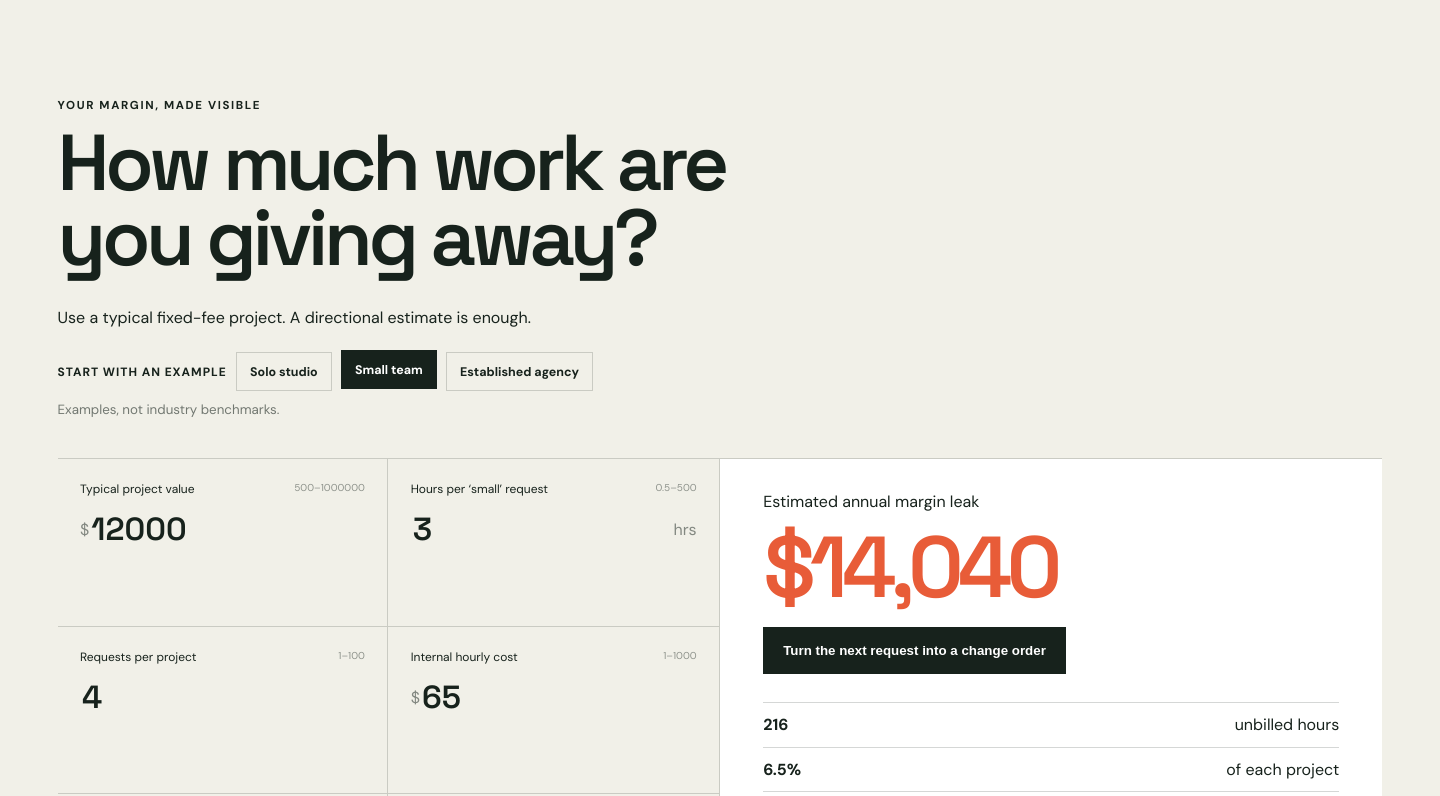
Scenario: calculator journey › updates the estimate and reveals a change-order preview
This screenshot has width=1440, height=796.
Step 1. Replace the text in the number field labelled "Hours per ‘small’ request" with "4" → (542, 529), box [411,508,674,550]
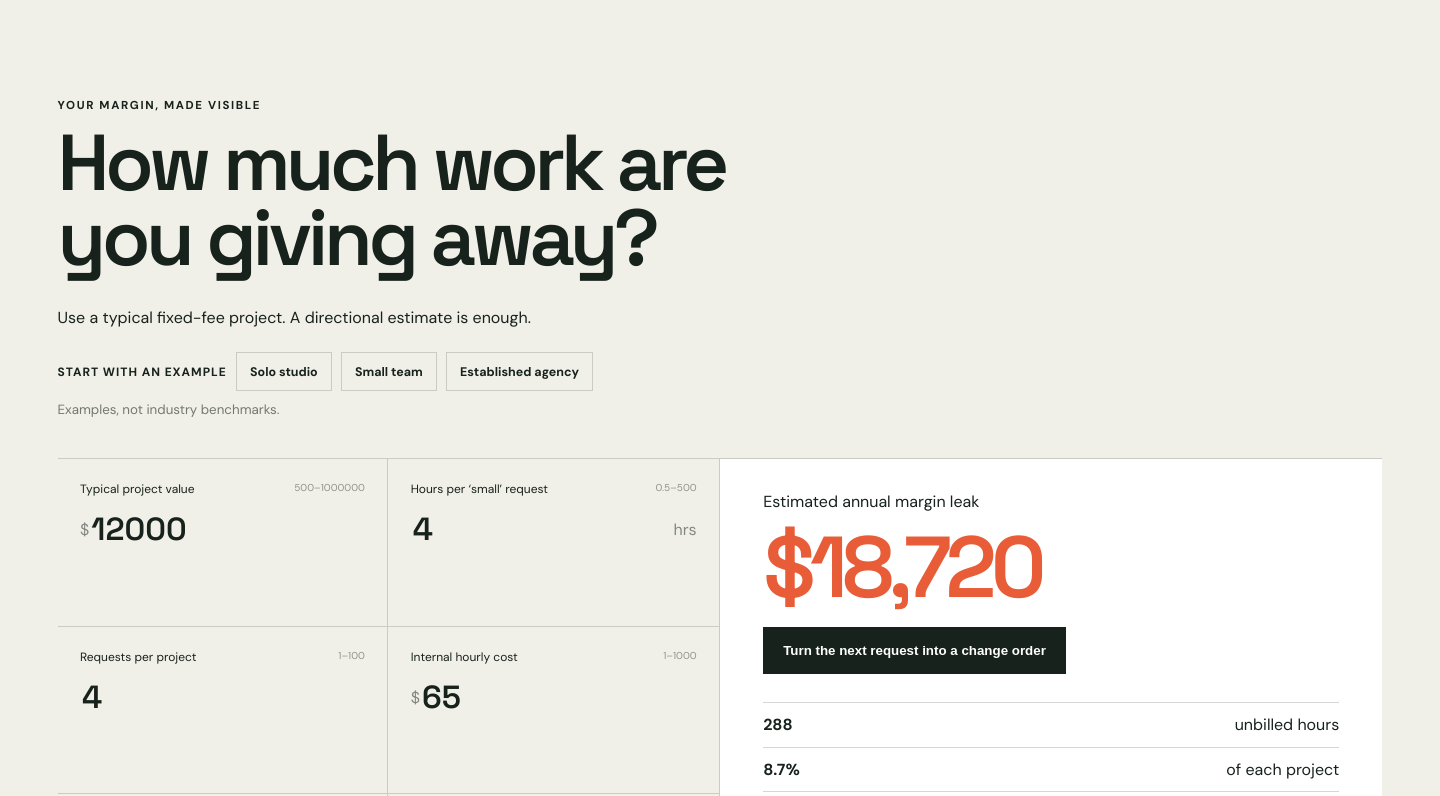
Result: the text "$18,720" is shown at [763,512,1040,622]
Step 2. Click the button "Turn the next request into a change order" → (915, 651), box [763,627,1066,674]
(page scrolled)
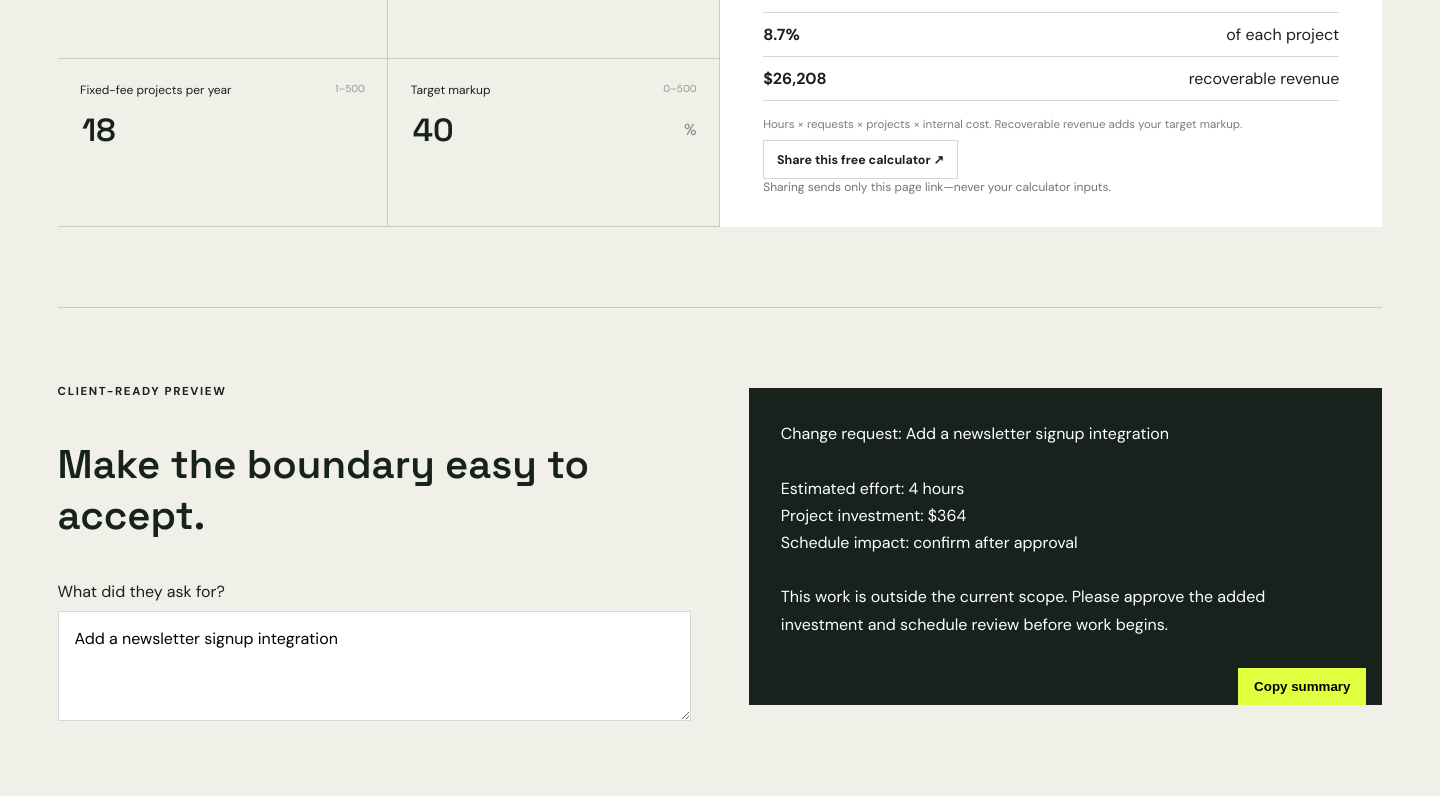
Result: the text "Client-ready preview" is shown at [58,384,226,399]
